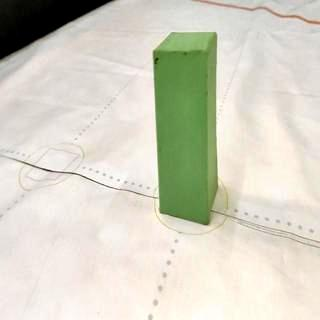greenbox: (154, 32, 218, 224)
